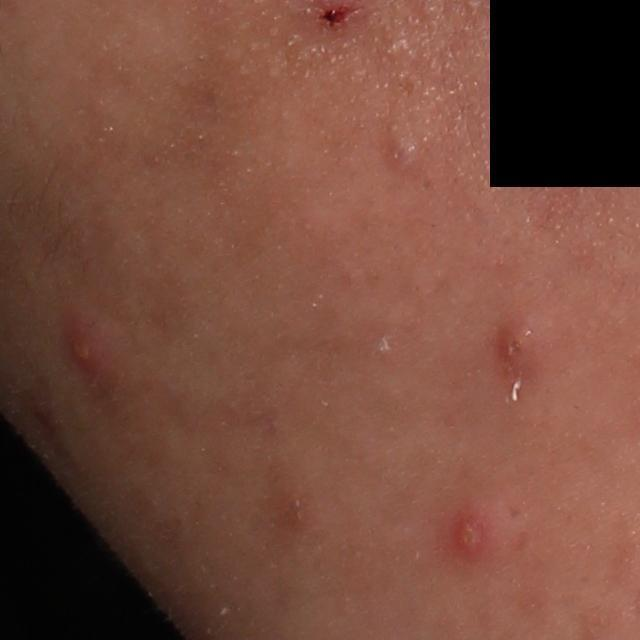comedo: (378, 130, 437, 186)
papule: (485, 304, 543, 397)
pustule: (61, 310, 123, 387), (442, 503, 511, 570)
